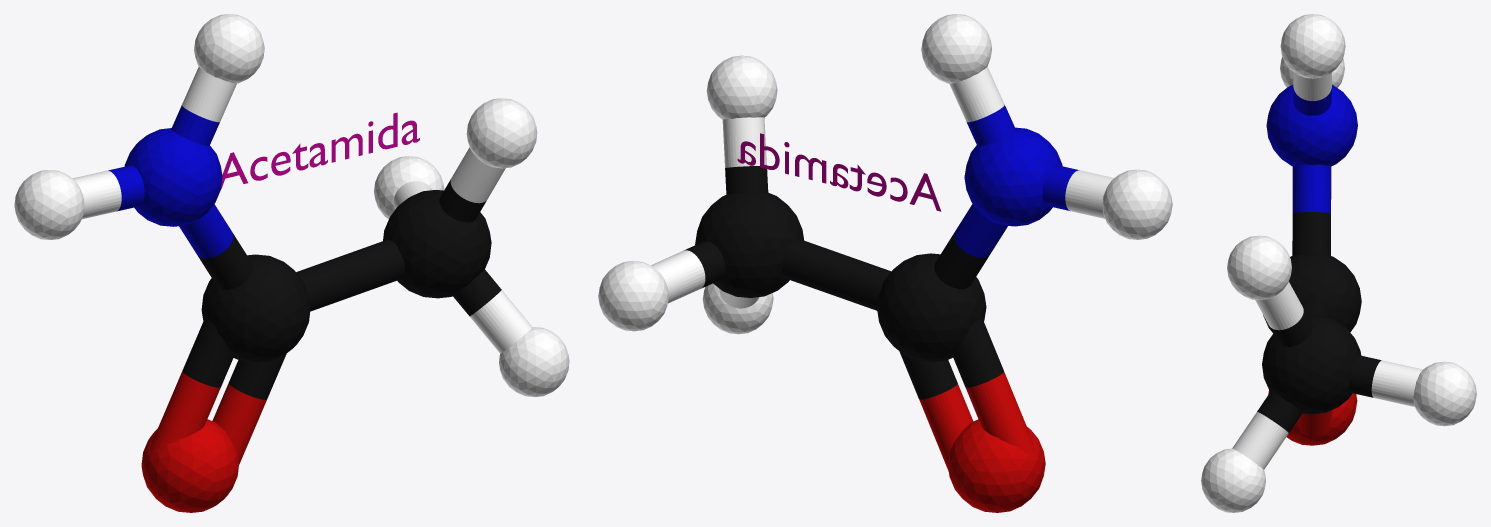
The model's file is acetamida.obj.
3 views of the same model, side by side, from view 1: azimuth 30°, elevation 25°; view 2: azimuth 150°, elevation 25°; view 3: azimuth 270°, elevation 25° (orthographic). The views are drawn at different scales.
Visible parts, largest first — view 1: Shape_IndexedFaceSet.028_Shape_IndexedFaceSet.003, Shape_IndexedFaceSet.014_Shape_IndexedFaceSet.001, Shape_IndexedFaceSet.034_Shape_IndexedFaceSet.004, Shape_IndexedFaceSet.027_Shape_IndexedFaceSet.002, Text_Text.007; view 2: Shape_IndexedFaceSet.028_Shape_IndexedFaceSet.003, Shape_IndexedFaceSet.014_Shape_IndexedFaceSet.001, Shape_IndexedFaceSet.034_Shape_IndexedFaceSet.004, Shape_IndexedFaceSet.027_Shape_IndexedFaceSet.002, Text_Text.007; view 3: Shape_IndexedFaceSet.014_Shape_IndexedFaceSet.001, Shape_IndexedFaceSet.028_Shape_IndexedFaceSet.003, Shape_IndexedFaceSet.027_Shape_IndexedFaceSet.002, Shape_IndexedFaceSet.034_Shape_IndexedFaceSet.004.
Part boxes in pixels (left/top/right/bottom): Shape_IndexedFaceSet.028_Shape_IndexedFaceSet.003: left=182, top=179, right=501, bottom=399; Shape_IndexedFaceSet.014_Shape_IndexedFaceSet.001: left=14, top=14, right=569, bottom=396; Shape_IndexedFaceSet.034_Shape_IndexedFaceSet.004: left=141, top=371, right=266, bottom=512; Shape_IndexedFaceSet.027_Shape_IndexedFaceSet.002: left=108, top=105, right=233, bottom=258; Text_Text.007: left=221, top=112, right=419, bottom=189; Shape_IndexedFaceSet.028_Shape_IndexedFaceSet.003: left=684, top=166, right=1003, bottom=399; Shape_IndexedFaceSet.014_Shape_IndexedFaceSet.001: left=598, top=14, right=1172, bottom=334; Shape_IndexedFaceSet.034_Shape_IndexedFaceSet.004: left=919, top=371, right=1045, bottom=512; Shape_IndexedFaceSet.027_Shape_IndexedFaceSet.002: left=954, top=105, right=1078, bottom=257; Text_Text.007: left=737, top=133, right=941, bottom=211; Shape_IndexedFaceSet.014_Shape_IndexedFaceSet.001: left=1201, top=14, right=1476, bottom=512; Shape_IndexedFaceSet.028_Shape_IndexedFaceSet.003: left=1257, top=212, right=1381, bottom=432; Shape_IndexedFaceSet.027_Shape_IndexedFaceSet.002: left=1266, top=84, right=1357, bottom=213; Shape_IndexedFaceSet.034_Shape_IndexedFaceSet.004: left=1268, top=390, right=1357, bottom=445.
Bounding box in the file's own units: 41.5 × 37.98 × 21.45.
